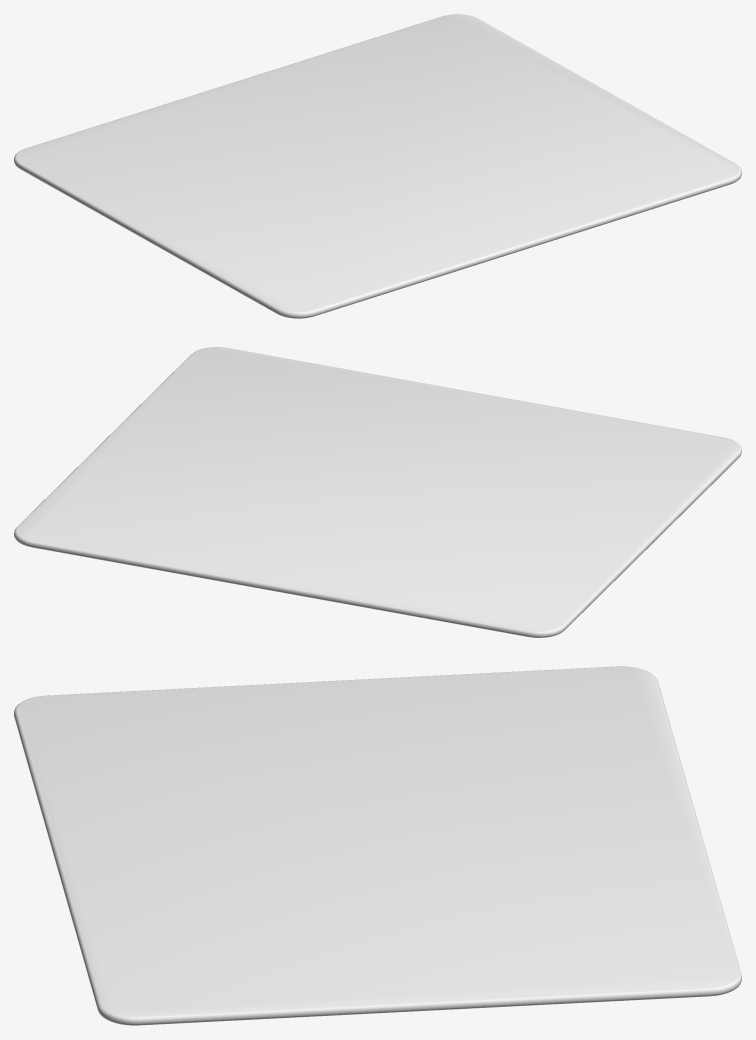
Rendered from mousepad.glb.
3 renders of one model, top to bottom at view 1: azimuth 30°, elevation 25°; view 2: azimuth 150°, elevation 25°; view 3: azimuth 270°, elevation 25°, orthographic. The views are drawn at different scales.
Visible parts, largest first — view 1: pad; view 2: pad; view 3: pad.
Boxes of the visible parts, box(x1,y1,x2,y2) form: pad: box(14, 14, 741, 318); pad: box(14, 347, 741, 637); pad: box(14, 666, 741, 1025).
Bounding box in the file's own units: 0.2706 × 0.003 × 0.2356.
2 materials, 2 textured.
